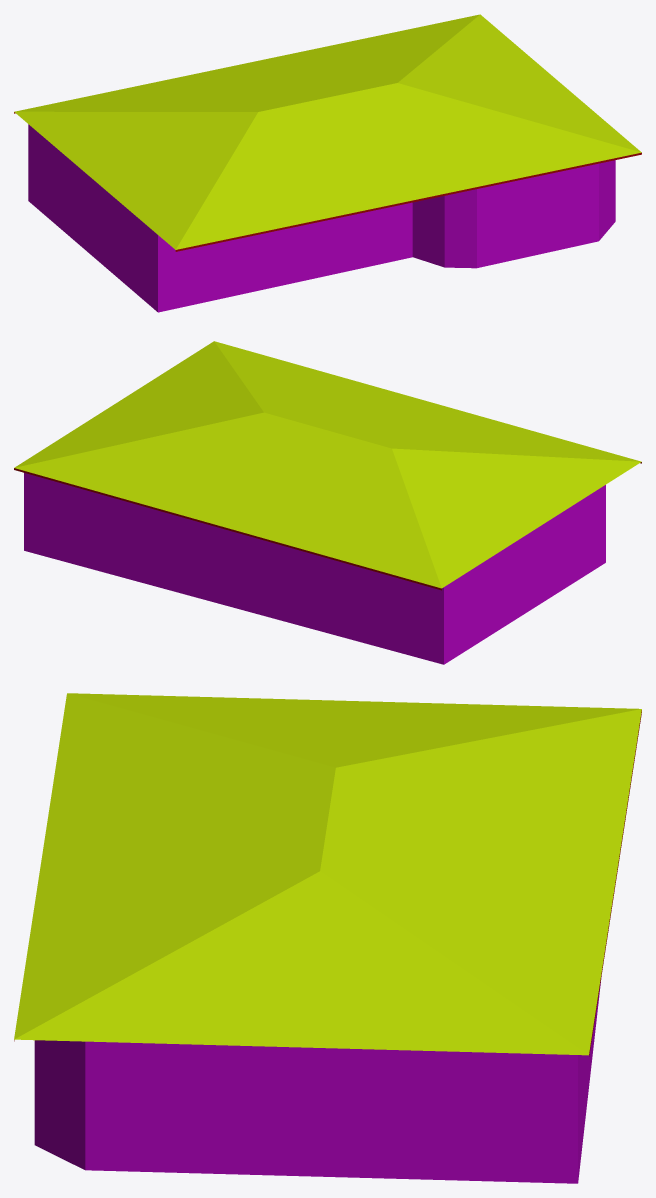
Rendered from rmc_152.glb.
3 views of the same model, one above another, from view 1: azimuth 30°, elevation 25°; view 2: azimuth 150°, elevation 25°; view 3: azimuth 270°, elevation 25° (orthographic). The views are drawn at different scales.
Parts seen in each view (by area): view 1: rmc_152; view 2: rmc_152; view 3: rmc_152.
Part boxes in pixels (x1,y1,x2,y2): rmc_152: (14,14,641,312); rmc_152: (14,341,641,664); rmc_152: (14,693,641,1183).
Size of the model in its own units: 29.53 by 7.17 by 21.64.
